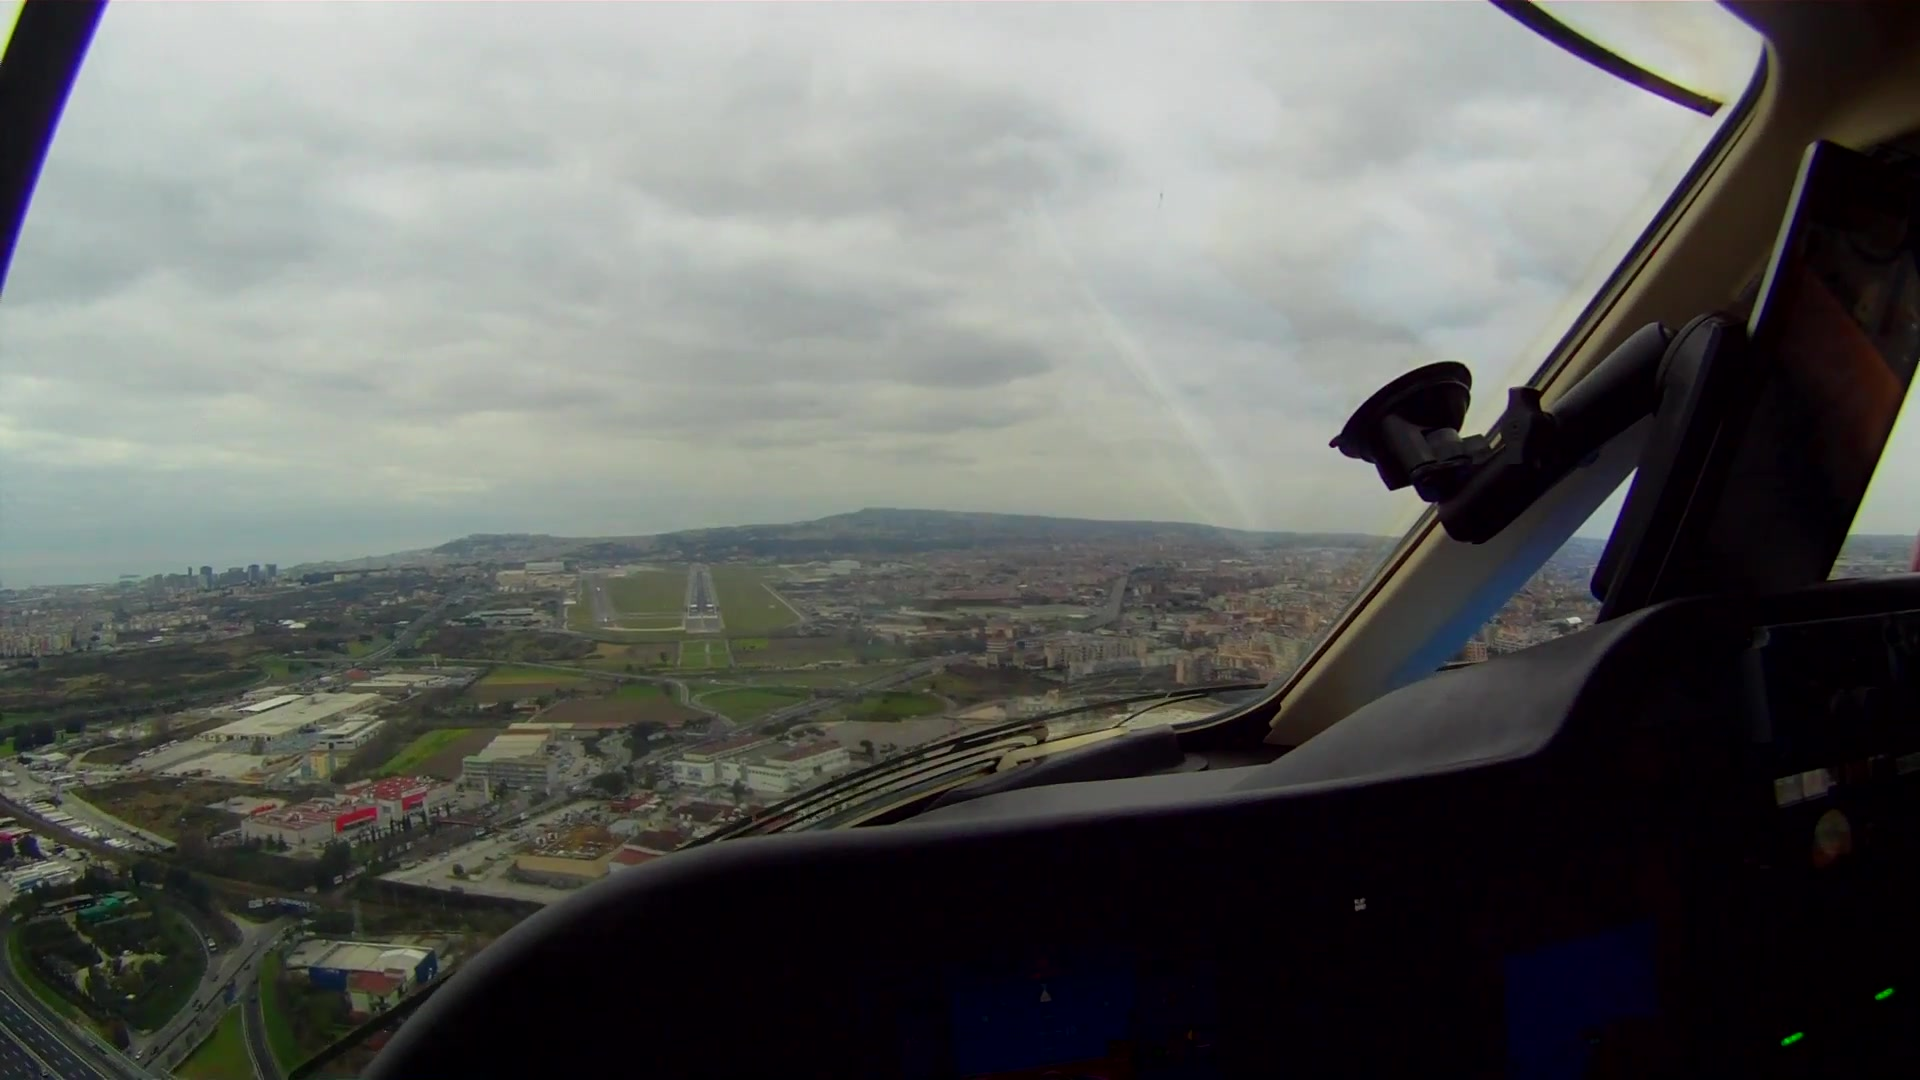runway: (676, 560, 727, 632)
